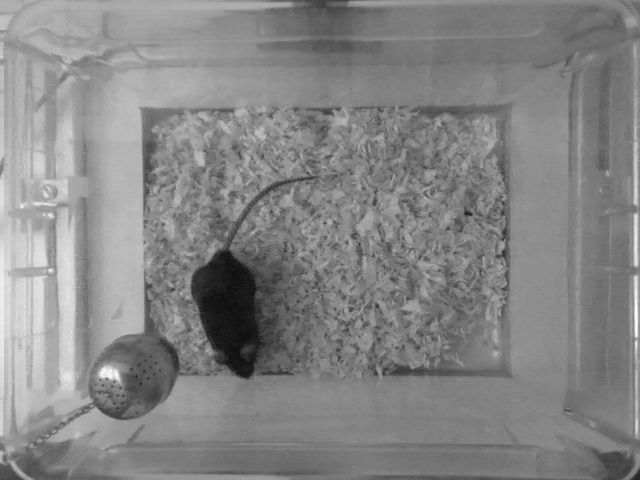mice: (196, 168, 318, 377)
